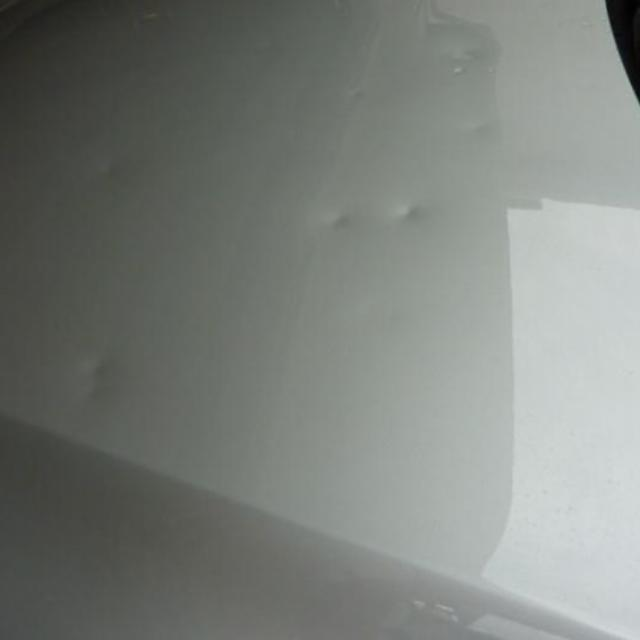dents: (72, 341, 138, 444), (305, 193, 382, 262), (440, 20, 508, 89), (392, 176, 442, 242), (457, 115, 515, 167), (99, 139, 144, 203)
